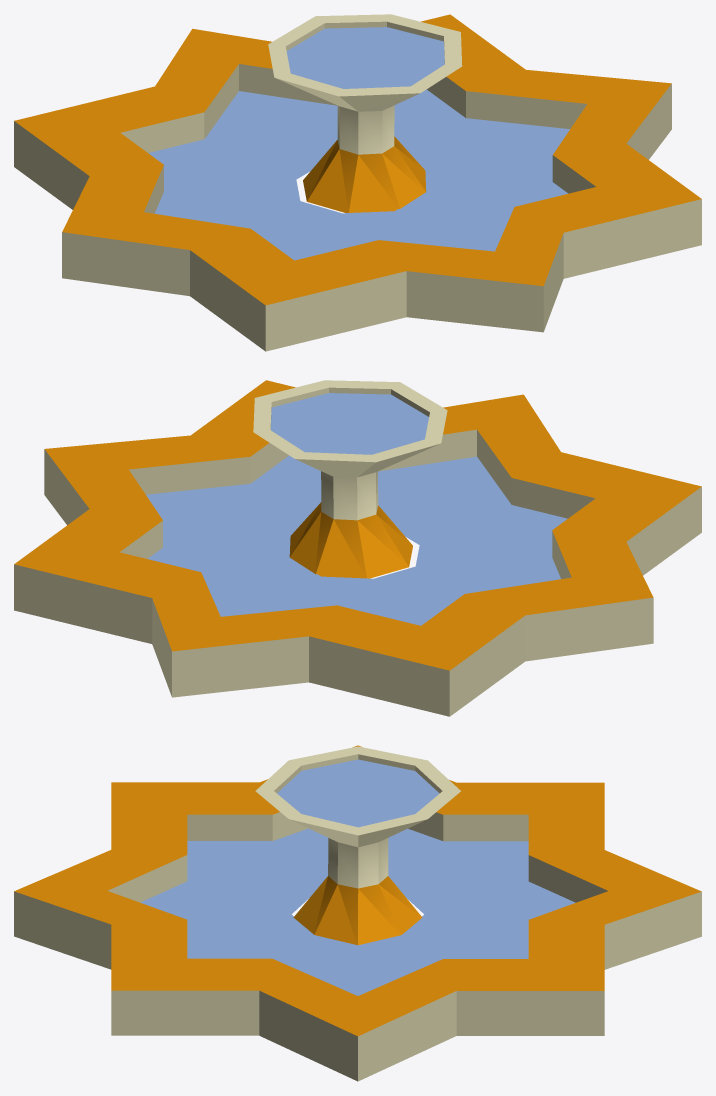
The model's file is fountain_l.FBX.
3 renders of one model, top to bottom at view 1: azimuth 30°, elevation 25°; view 2: azimuth 150°, elevation 25°; view 3: azimuth 270°, elevation 25°, orthographic. The views are drawn at different scales.
Parts seen in each view (by area): view 1: fountain_l; view 2: fountain_l; view 3: fountain_l.
Part boxes in pixels (<box>): fountain_l: <box>14,14,701,351</box>; fountain_l: <box>14,380,701,716</box>; fountain_l: <box>14,745,701,1081</box>.
Size of the model in its own units: 2045 by 477 by 2043.
